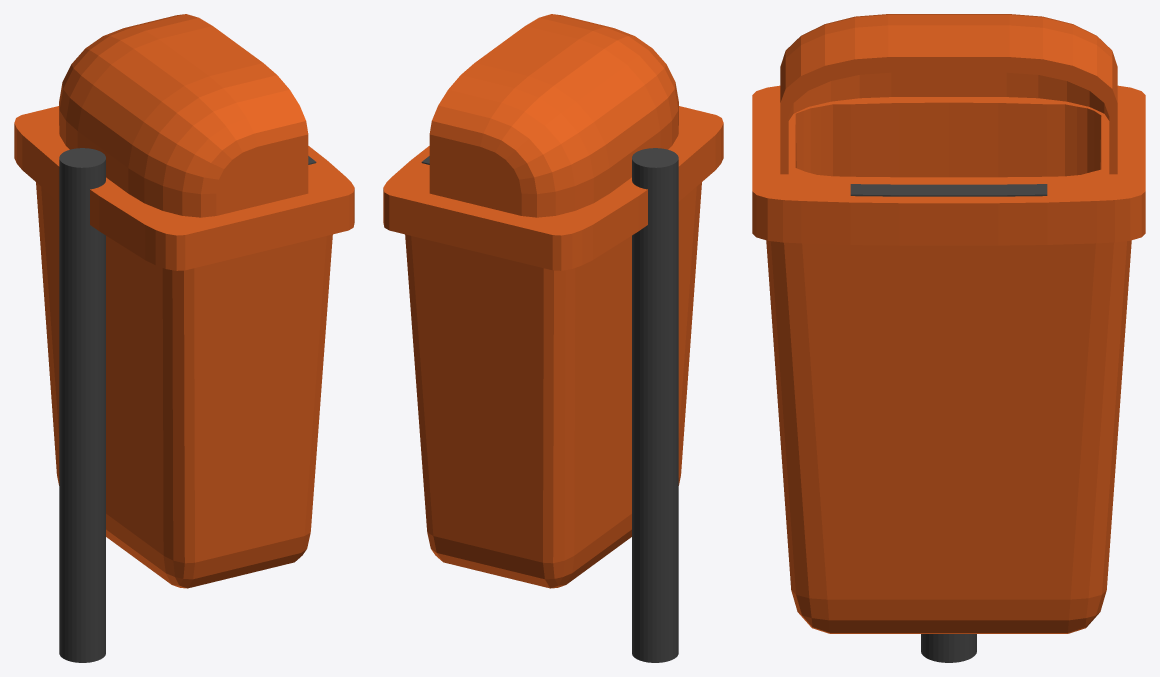
Rendered from lixeira-comlurb-v2.fbx.
3 views of the same model, side by side, from view 1: azimuth 30°, elevation 25°; view 2: azimuth 150°, elevation 25°; view 3: azimuth 270°, elevation 25° (orthographic). The views are drawn at different scales.
Parts seen in each view (by area): view 1: Cylinder; view 2: Cylinder; view 3: Cylinder.
Boxes of the visible parts, left/top/right/bottom form: Cylinder: left=14, top=14, right=354, bottom=662; Cylinder: left=383, top=14, right=723, bottom=662; Cylinder: left=752, top=14, right=1145, bottom=662.
Size of the model in its own units: 66.58 by 161 by 84.
